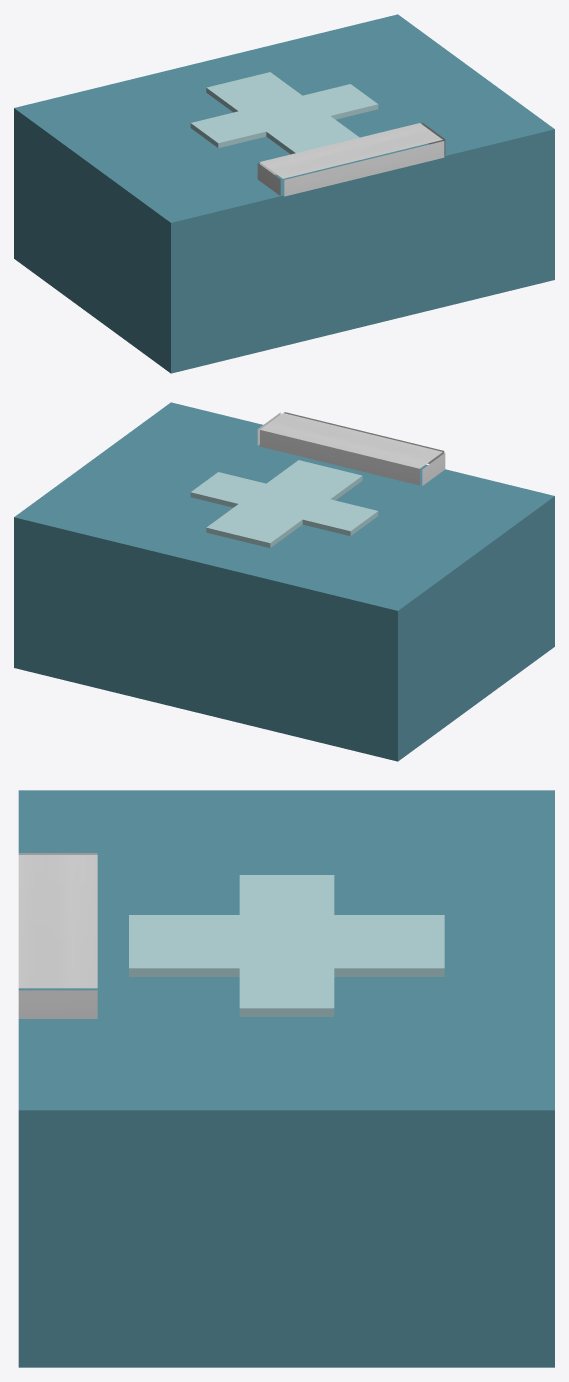
The model's file is item_medicine.obj.
The picture shows the model from 3 angles, top to bottom: view 1: azimuth 30°, elevation 25°; view 2: azimuth 150°, elevation 25°; view 3: azimuth 270°, elevation 25°; orthographic projection. The views are drawn at different scales.
Parts seen in each view (by area): view 1: item_medicine; view 2: item_medicine; view 3: item_medicine.
Part boxes in pixels (x1=…): item_medicine: x1=14, y1=14, x2=554, y2=373; item_medicine: x1=14, y1=402, x2=554, y2=761; item_medicine: x1=18, y1=790, x2=554, y2=1367.
Size of the model in its own units: 0.48 by 0.2 by 0.343.
